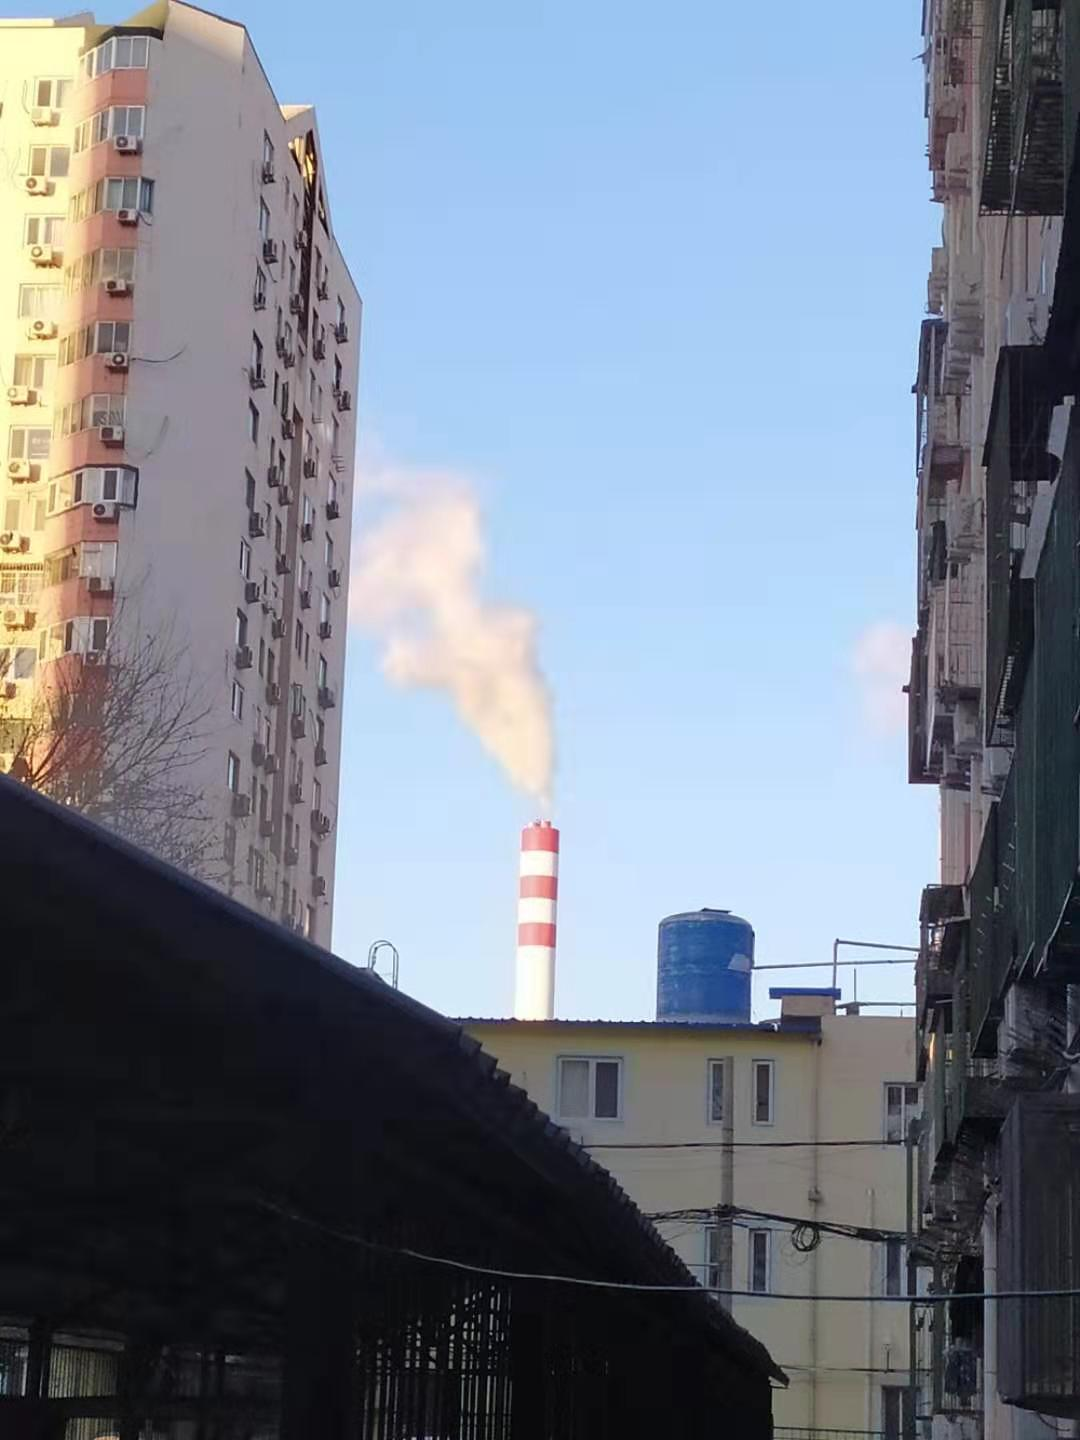yanwu: (343, 451, 558, 795)
